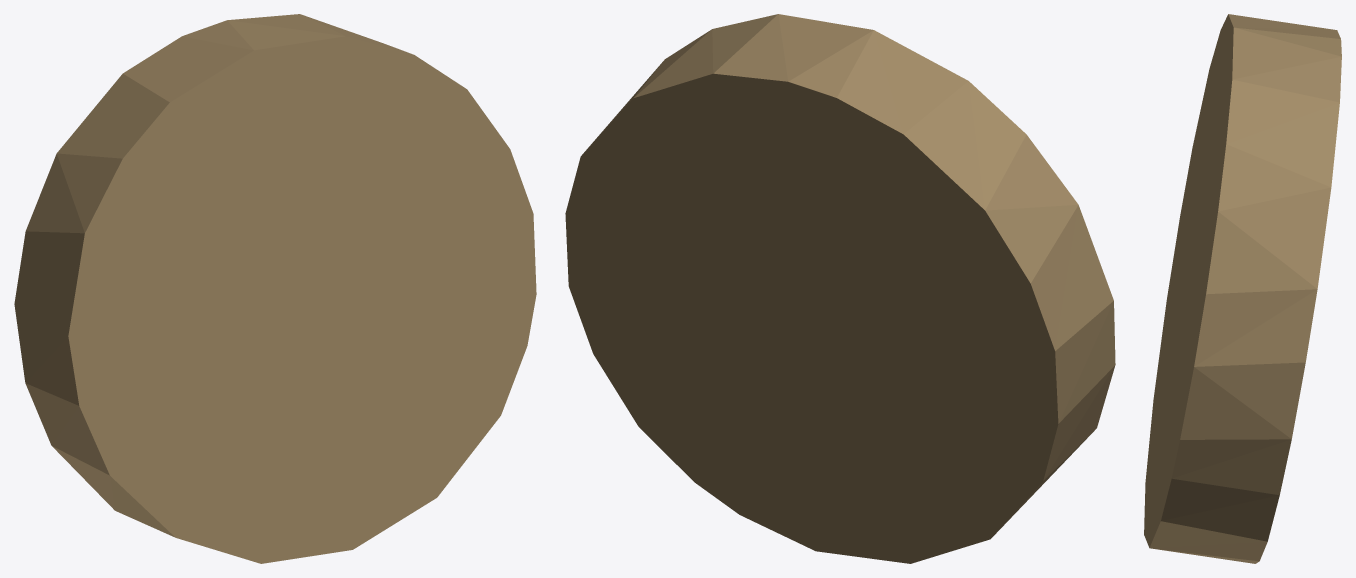
Rendered from right_elbow_x_link_visual_11.obj.balanced.glb.
3 views of the same model, side by side, from view 1: azimuth 30°, elevation 25°; view 2: azimuth 150°, elevation 25°; view 3: azimuth 270°, elevation 25° (orthographic). The views are drawn at different scales.
Size of the model in its own units: 0.1666 by 0.17 by 0.0612.
